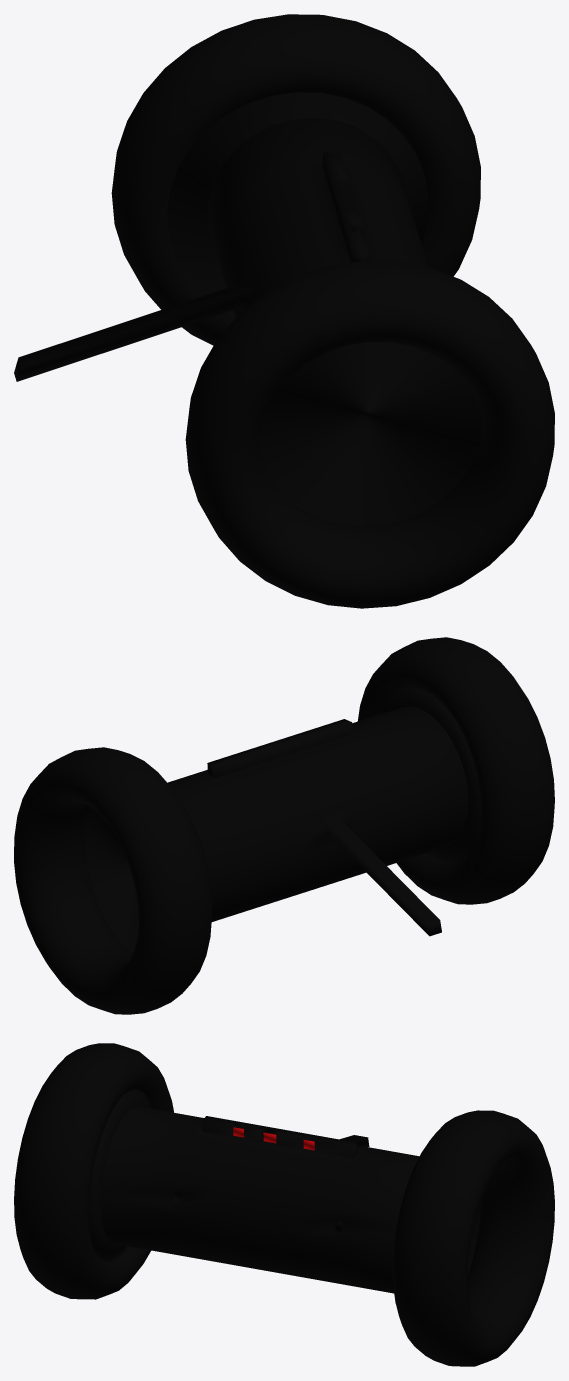
File: drone-r6-dronity.glb
3 views of the same model, one above another, from view 1: azimuth 30°, elevation 25°; view 2: azimuth 150°, elevation 25°; view 3: azimuth 270°, elevation 25° (orthographic). The views are drawn at different scales.
Visible parts, largest first — view 1: Cylinder, Torus, Torus.001; view 2: Cylinder, Torus.001, Torus; view 3: Cylinder, Torus.001, Torus.
Boxes of the visible parts, <box> form: Cylinder: <box>14,92,481,526</box>; Torus: <box>185,260,554,608</box>; Torus.001: <box>111,14,480,345</box>; Cylinder: <box>85,686,481,953</box>; Torus.001: <box>14,747,212,1014</box>; Torus: <box>357,637,554,904</box>; Cylinder: <box>89,1089,480,1293</box>; Torus.001: <box>392,1110,554,1366</box>; Torus: <box>14,1043,173,1299</box>.
Size of the model in its own units: 0.2869 by 0.1785 by 0.3727.
2 materials, 1 textured.
